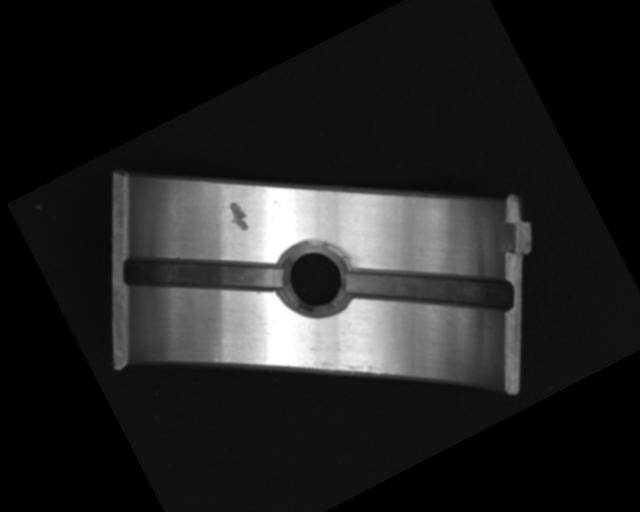bruise: (222, 197, 253, 235)
gap: (341, 209, 518, 369), (116, 198, 286, 347)
hole: (268, 228, 360, 325)
